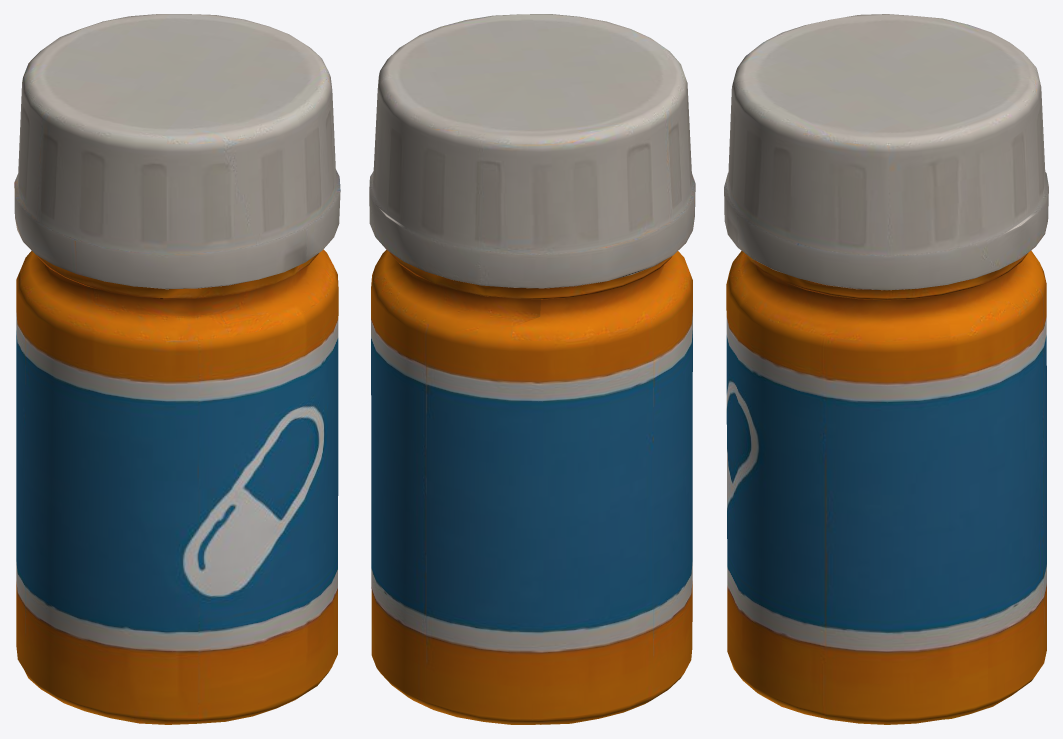
Rendered from painkillers.glb.
The picture shows the model from 3 angles, left to right: view 1: azimuth 30°, elevation 25°; view 2: azimuth 150°, elevation 25°; view 3: azimuth 270°, elevation 25°; orthographic projection.
Parts seen in each view (by area): view 1: painkillers; view 2: painkillers; view 3: painkillers.
Boxes of the visible parts, bbox=[...] form: painkillers: bbox=[14, 14, 340, 724]; painkillers: bbox=[369, 14, 695, 724]; painkillers: bbox=[724, 14, 1048, 724].
Size of the model in its own units: 0.0505 by 0.1 by 0.05.
Materials: 1 (1 with a texture image).
